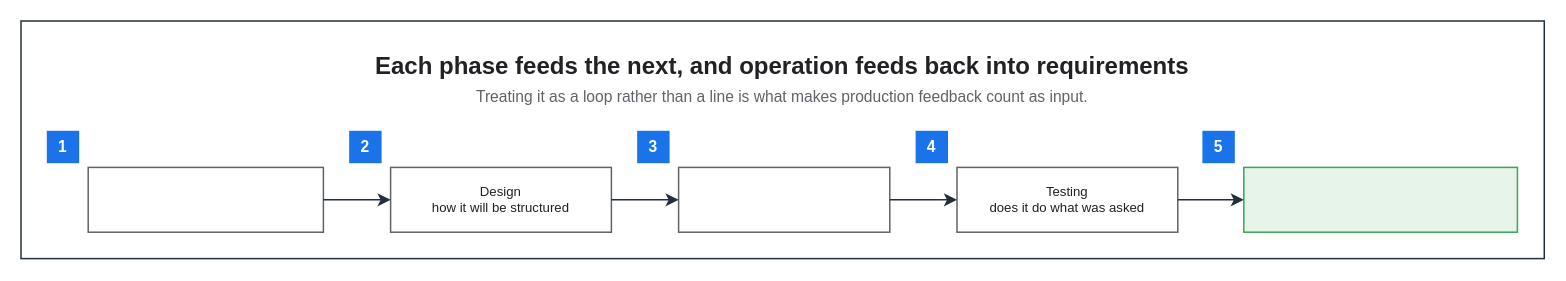
Image size: 1566x281. Some labels were removed from this diagram. The centre of each missing label's shape, as x and y in pixels:
"Implementation the code itself" belongs at point (783, 199).
"Operation what production teaches you next" belongs at point (1380, 199).
"Requirements what the software has to do" belongs at point (205, 199).
